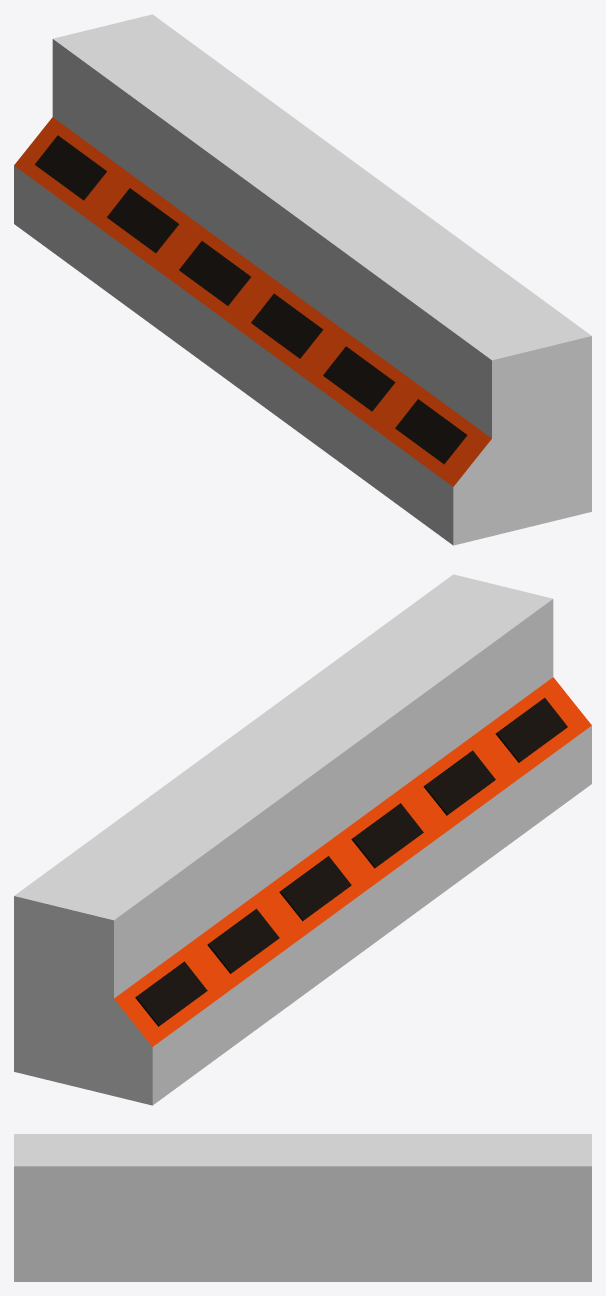
The model's file is trophy.fbx.
3 views of the same model, one above another, from view 1: azimuth 30°, elevation 25°; view 2: azimuth 150°, elevation 25°; view 3: azimuth 270°, elevation 25° (orthographic). The views are drawn at different scales.
Parts seen in each view (by area): view 1: Cube.180, Cube.178, Cube.189; view 2: Cube.180, Cube.178, Cube.189; view 3: Cube.180, Cube.178.
Part boxes in pixels (x1,y1,x2,y2): Cube.180: (52,14,591,438); Cube.178: (14,117,591,545); Cube.189: (35,135,467,464); Cube.180: (14,574,553,998); Cube.178: (14,677,591,1105); Cube.189: (135,698,567,1026); Cube.180: (14,1134,591,1217); Cube.178: (14,1217,591,1281).
Size of the model in its own units: 152 by 184 by 834.
